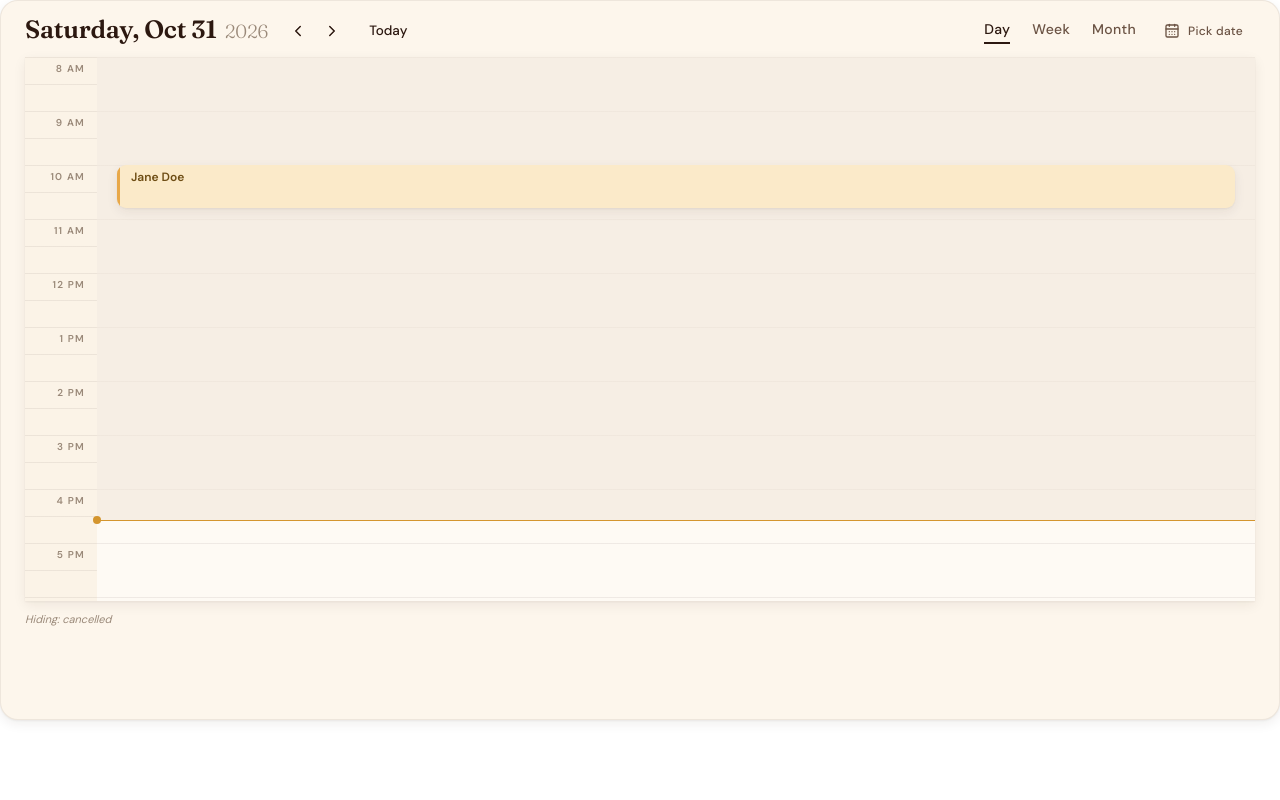
Test: EditorialCalendar › right-click status menu marks a no-show via the update mutation
(page scrolled)
Step 1. Right-click the button "Jane Doe" → {"x": 676, "y": 187}, box [113,165,1239,208]
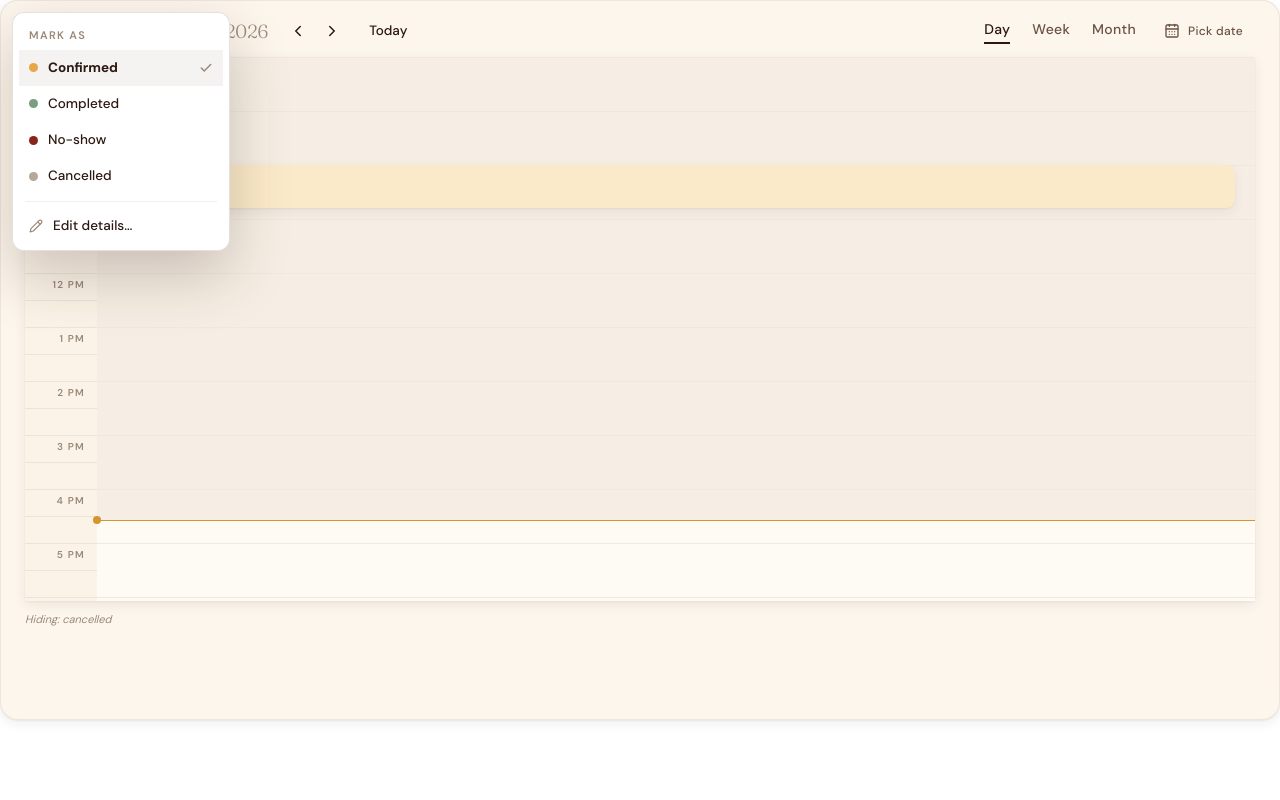
Step 2. Click the menu item "No-show" → {"x": 121, "y": 140}, box [19,122,223,158]
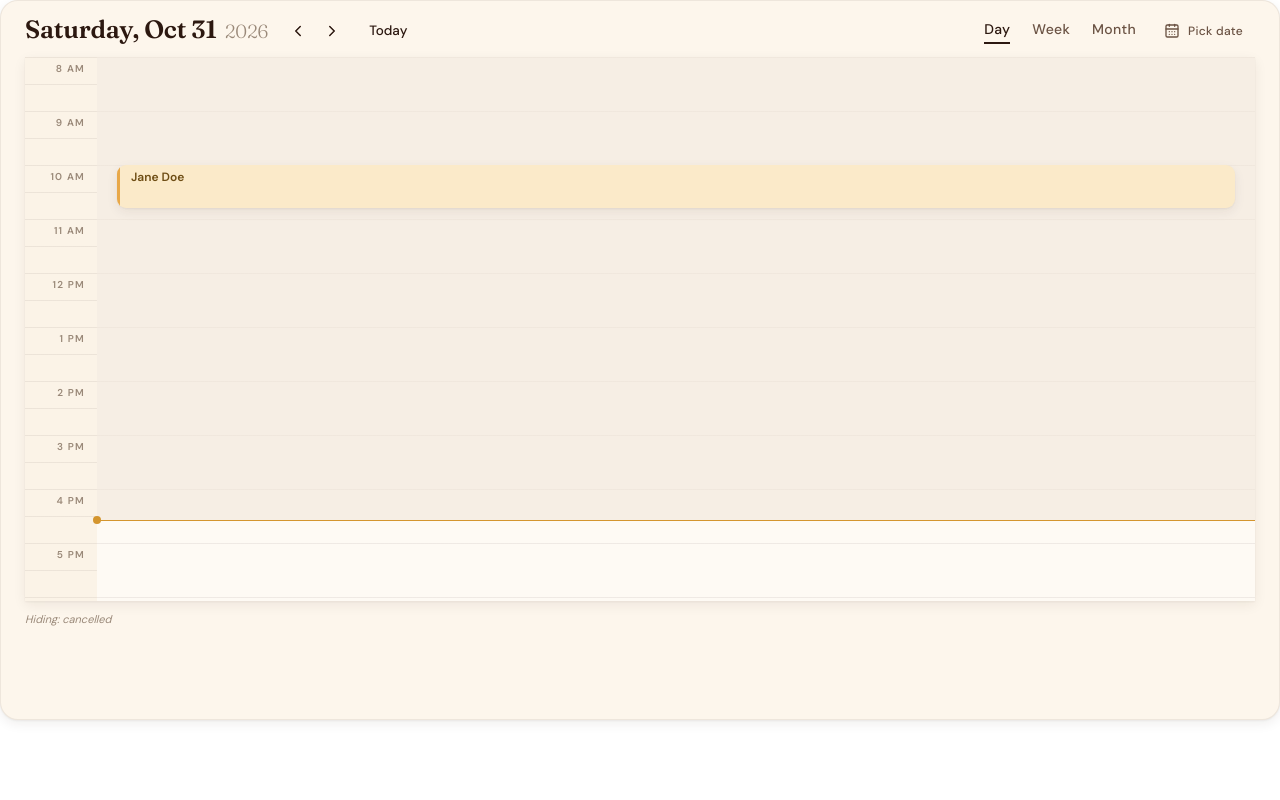
Now the menu is gone
